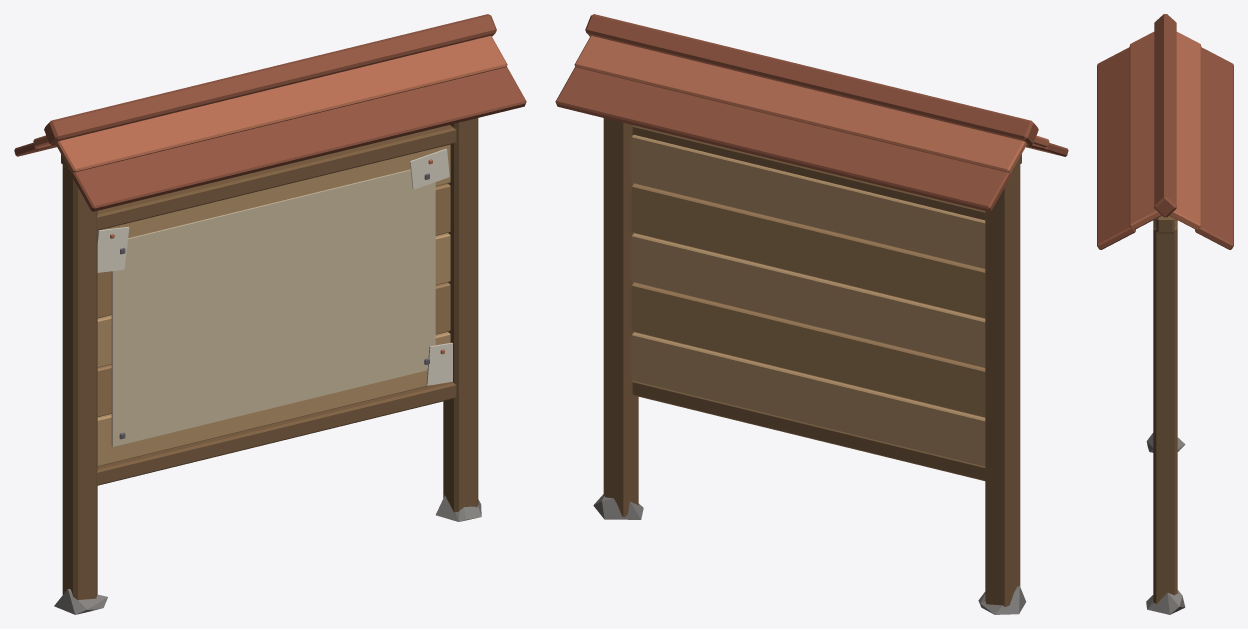
File: notice_board.glb
3 renders of one model, left to right at view 1: azimuth 30°, elevation 25°; view 2: azimuth 150°, elevation 25°; view 3: azimuth 270°, elevation 25°, orthographic. The views are drawn at different scales.
Parts seen in each view (by area): view 1: NoticeBoard; view 2: NoticeBoard; view 3: NoticeBoard.
Boxes of the visible parts, <box> form: NoticeBoard: <box>14,14,526,614</box>; NoticeBoard: <box>555,14,1068,614</box>; NoticeBoard: <box>1097,14,1233,614</box>.
Size of the model in its own units: 2.9 by 3.07 by 0.907.
